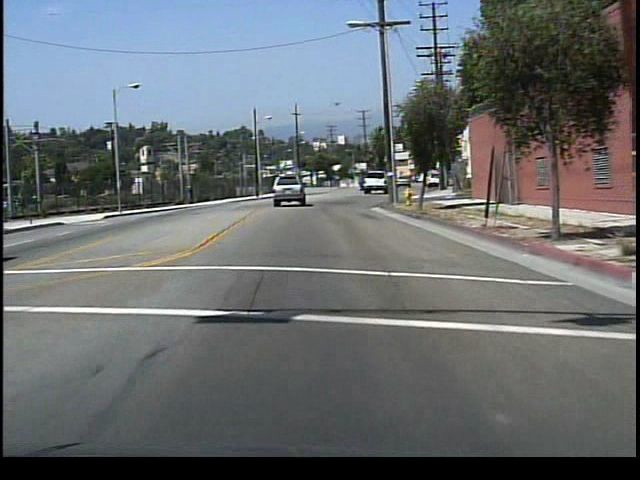person: (184, 180, 201, 205)
